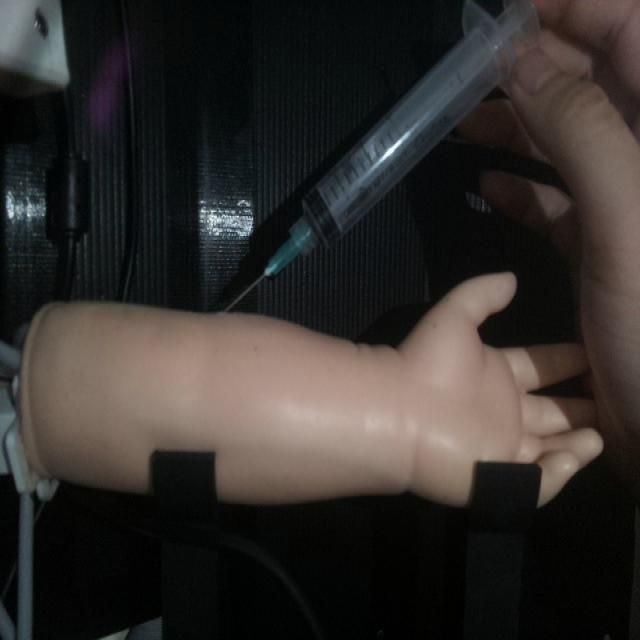Above 30 degrees: (217, 0, 542, 312)
